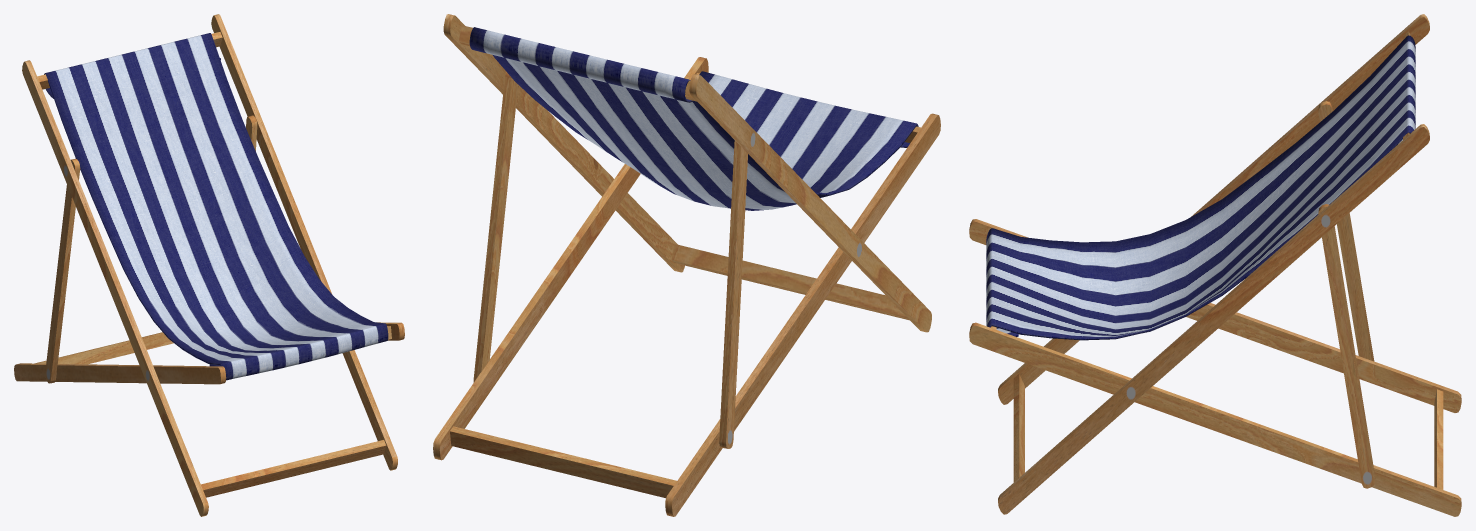
3 views of the same model, side by side, from view 1: azimuth 30°, elevation 25°; view 2: azimuth 150°, elevation 25°; view 3: azimuth 270°, elevation 25° (orthographic). The views are drawn at different scales.
Parts seen in each view (by area): view 1: Fabric; view 2: Fabric; view 3: Fabric.
Boxes of the visible parts, x1,y1,x2,y2 form: Fabric: (14, 14, 404, 516); Fabric: (433, 14, 940, 516); Fabric: (969, 14, 1461, 516).
Size of the model in its own units: 55.56 by 48.96 by 30.17.
1 material, 1 textured.
